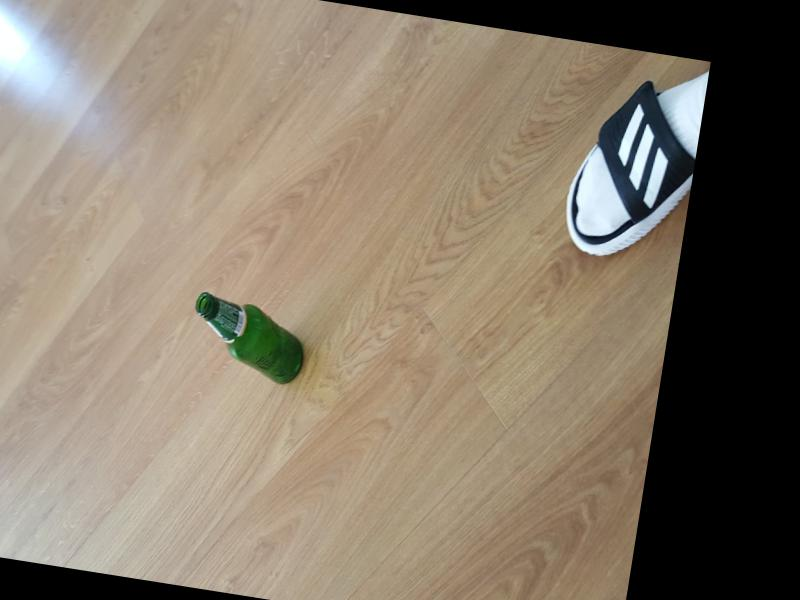Beer: (188, 291, 311, 384)
